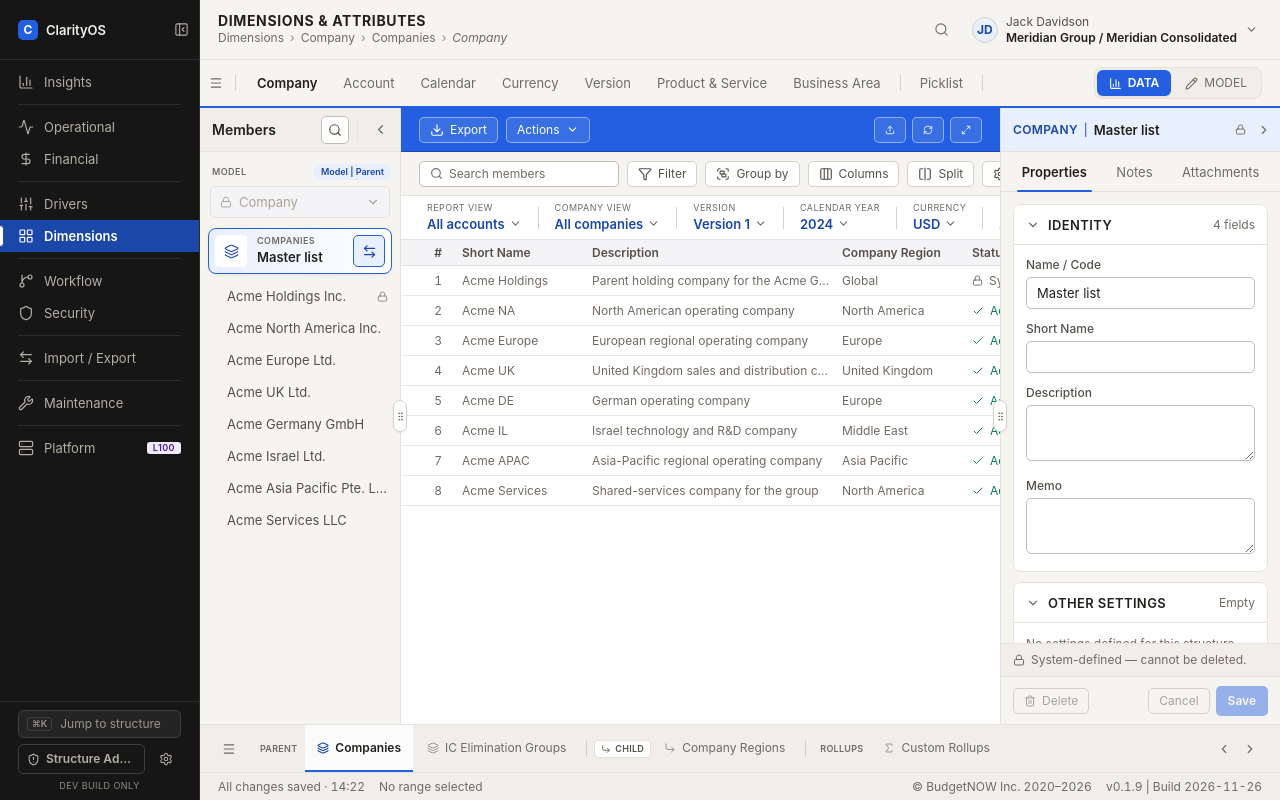
Test: rules in the app › an admin writes a rule in the Rules tab and it applies live
This screenshot has width=1280, height=800.
Click the button "JD Jack Davidson Meridian Group / Meridian Consolidated" at [1115, 30], box 968,12 -> 1262,48
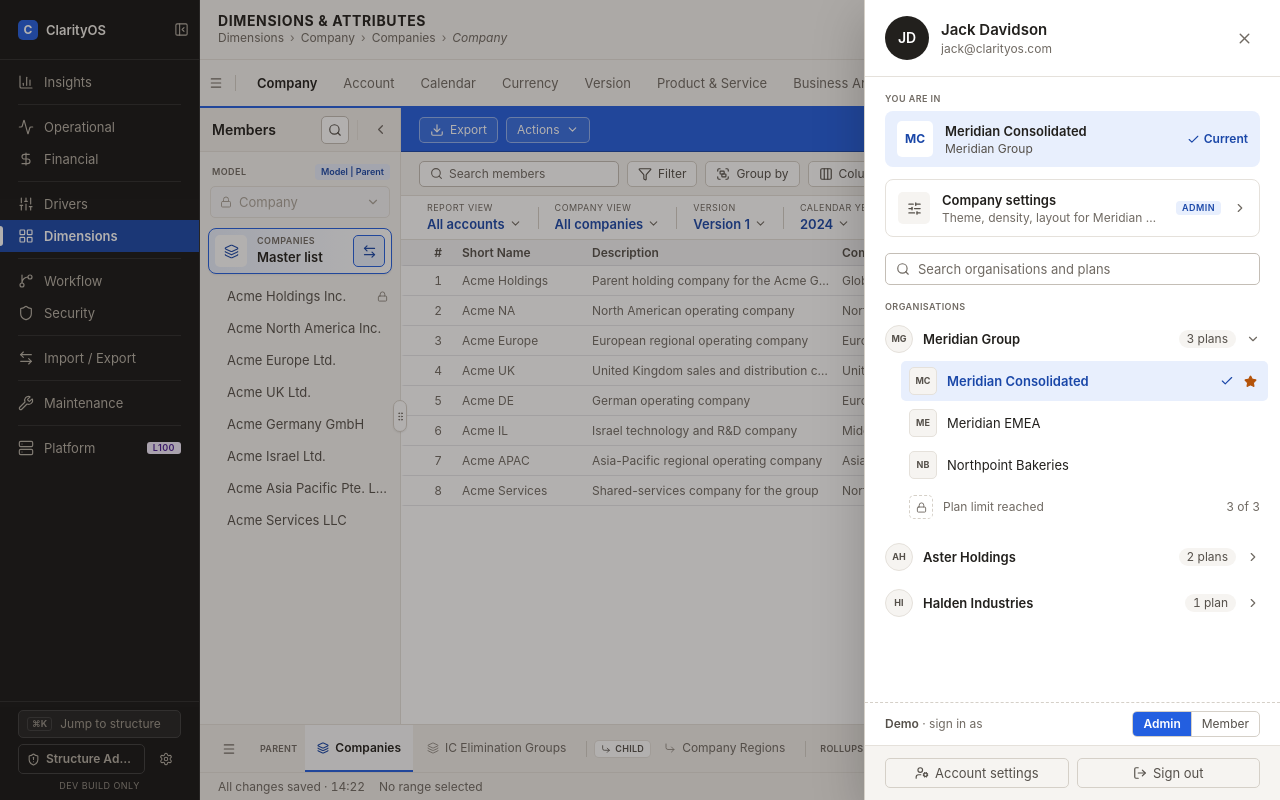
Click the button "Company settings" at [1072, 208], box 885,179 -> 1260,237
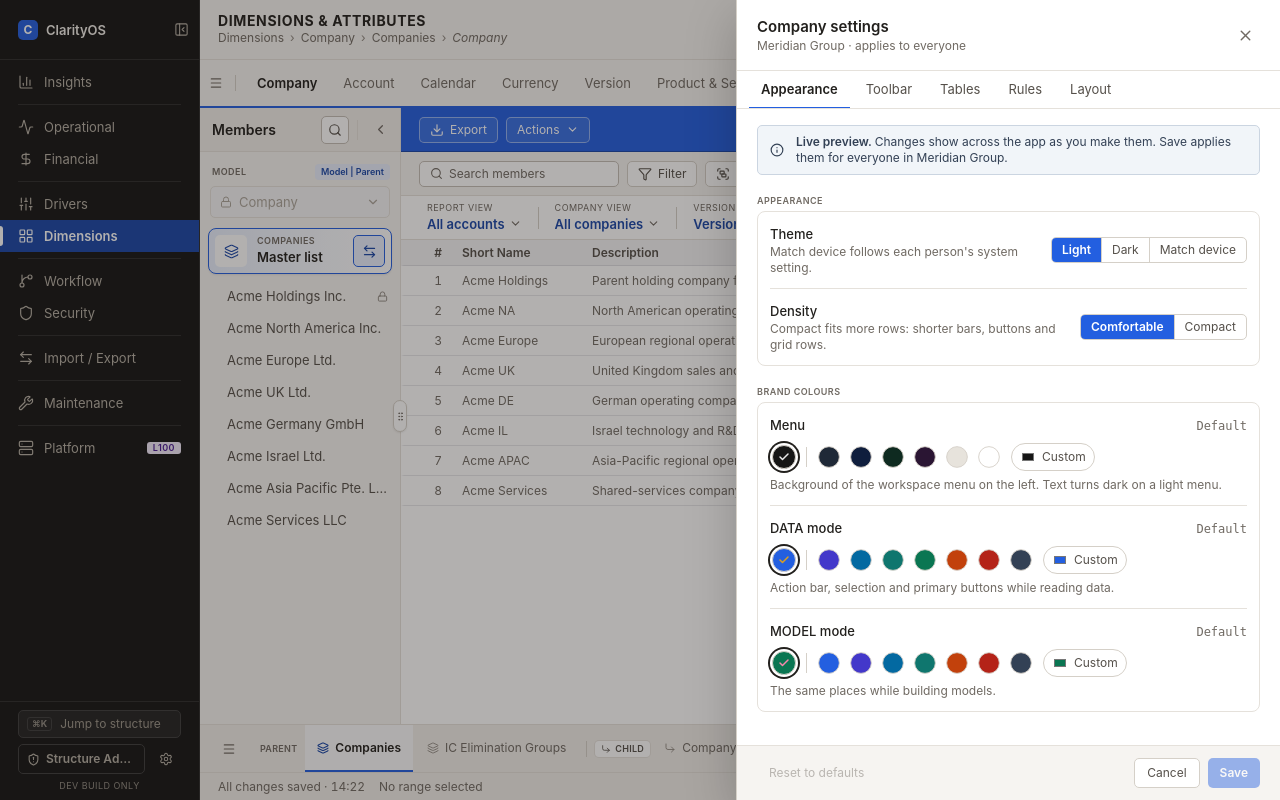
Click the tab "Rules" at [1025, 90], box 996,71 -> 1054,109
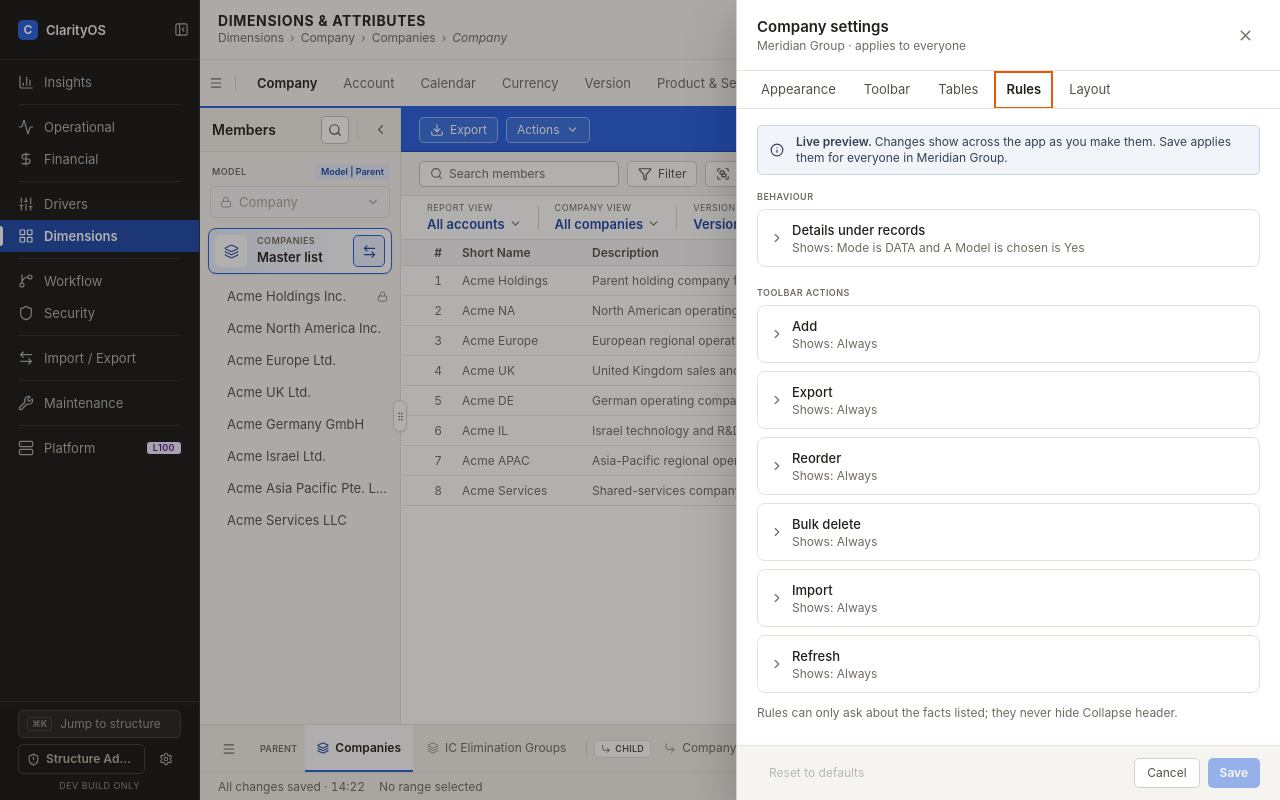
Click the text "Export" at [812, 392], box 792,384 -> 833,400
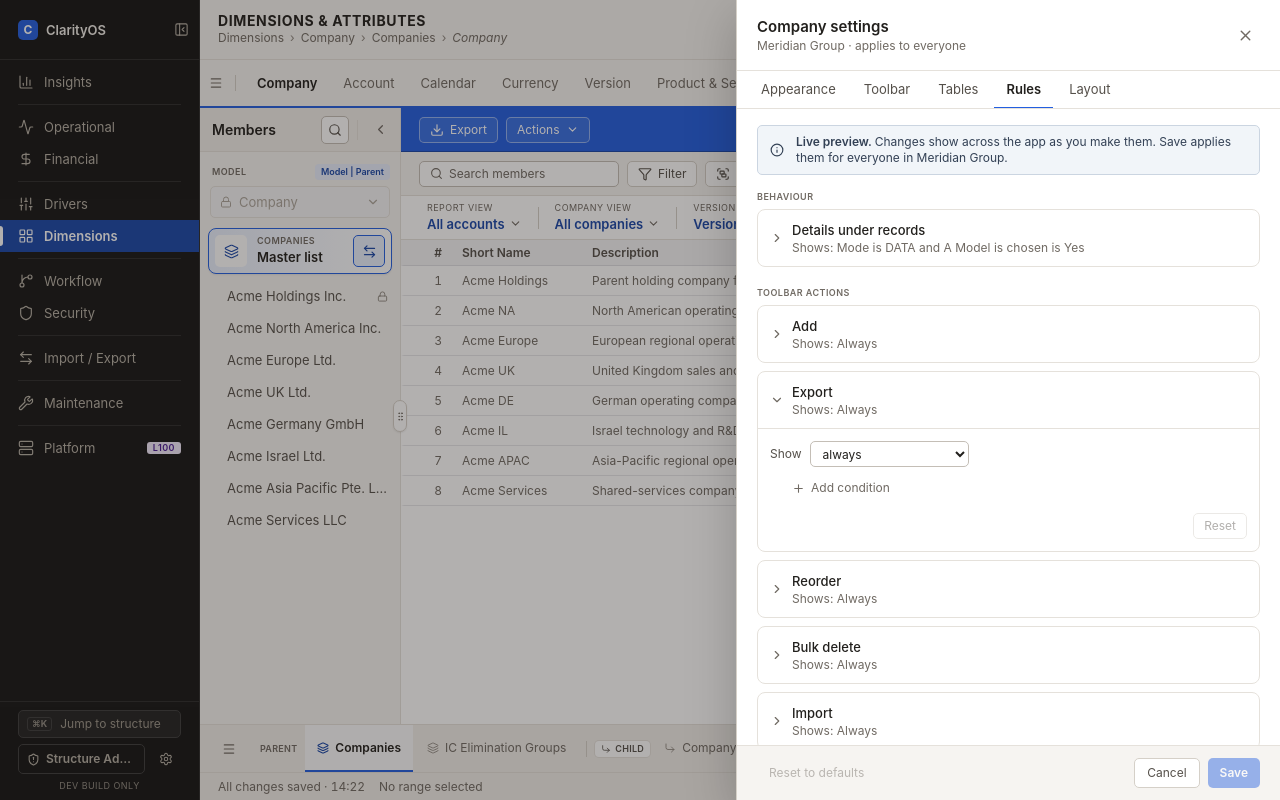
Select "never" in the dropdown named "Export: match" at [889, 454], box 810,441 -> 969,467
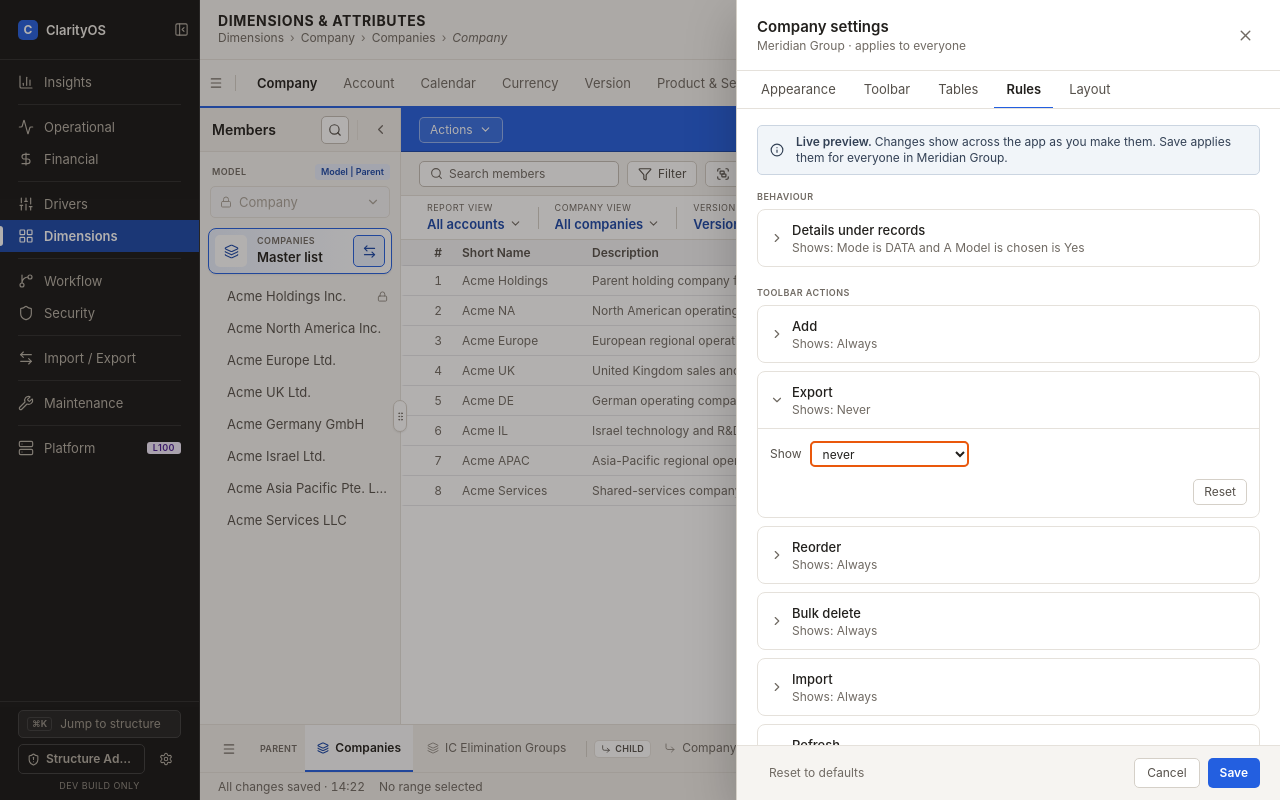
Expected: the text "Shows: Never" is shown, 792,402 -> 871,417
